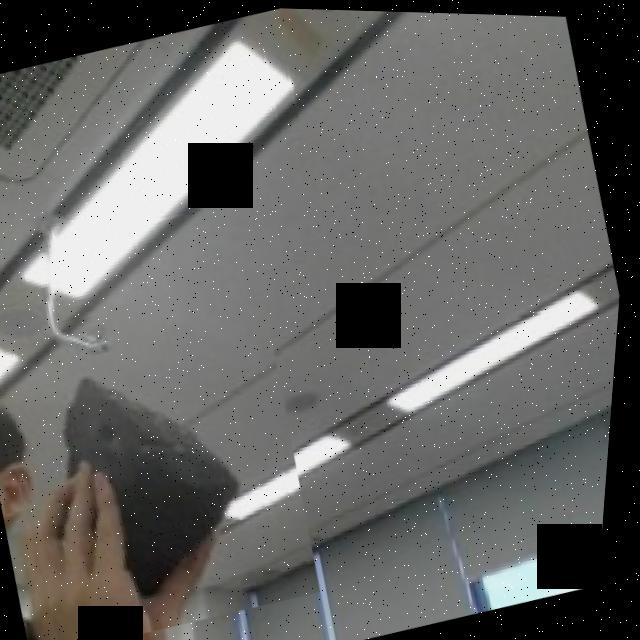shoe: (0, 265, 348, 640)
